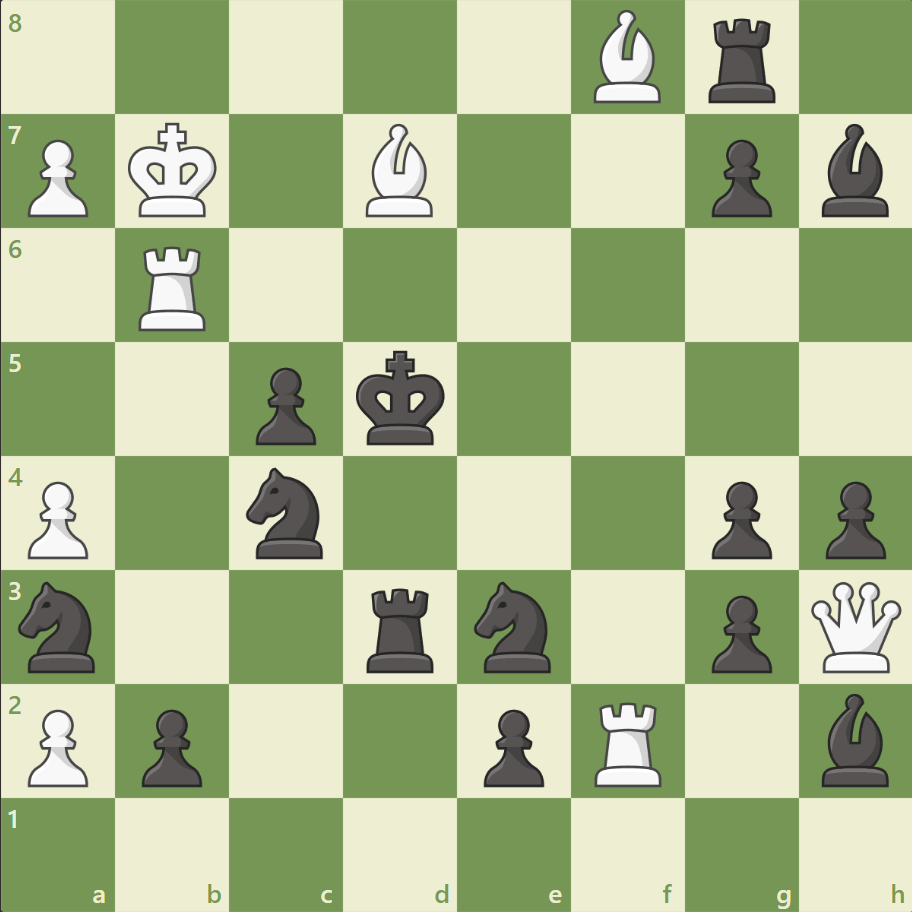B: (585, 6, 669, 109), (358, 120, 442, 222)
K: (124, 117, 224, 225)
P: (20, 132, 95, 223), (20, 473, 95, 564), (20, 700, 95, 791)
Q: (805, 576, 904, 676)
R: (587, 693, 670, 790), (133, 239, 215, 336)
b: (812, 687, 896, 790), (812, 120, 896, 222)
k: (351, 344, 451, 452)
n: (238, 461, 335, 564), (11, 575, 108, 677), (465, 575, 562, 677)
p: (701, 132, 776, 223), (247, 359, 322, 450), (701, 473, 776, 564), (701, 586, 776, 677), (133, 700, 208, 791), (474, 700, 549, 791), (815, 473, 889, 564)
r: (700, 12, 783, 109), (360, 579, 442, 676)
